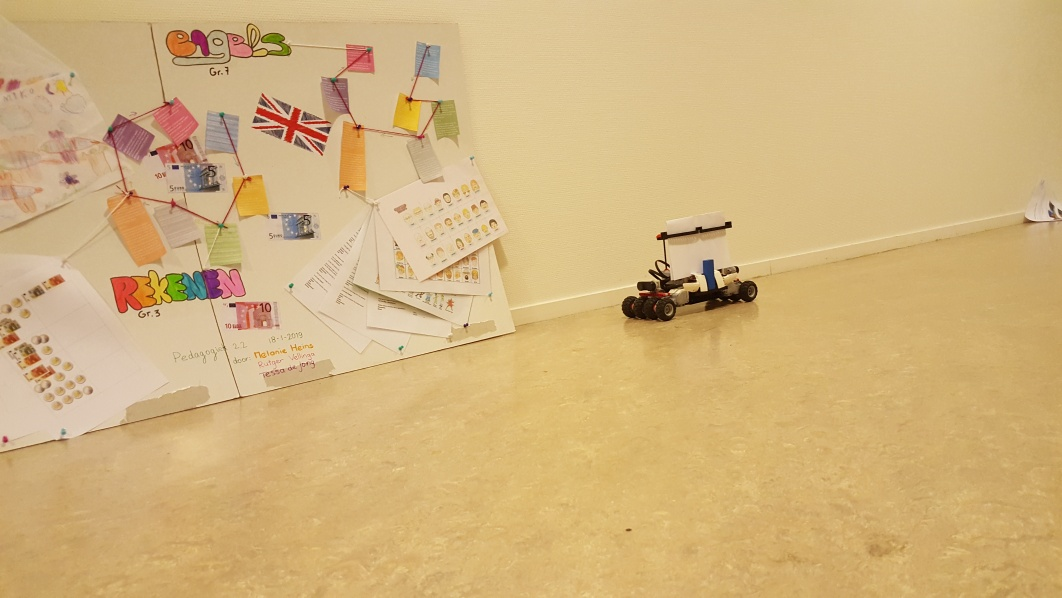car: (623, 211, 758, 319)
